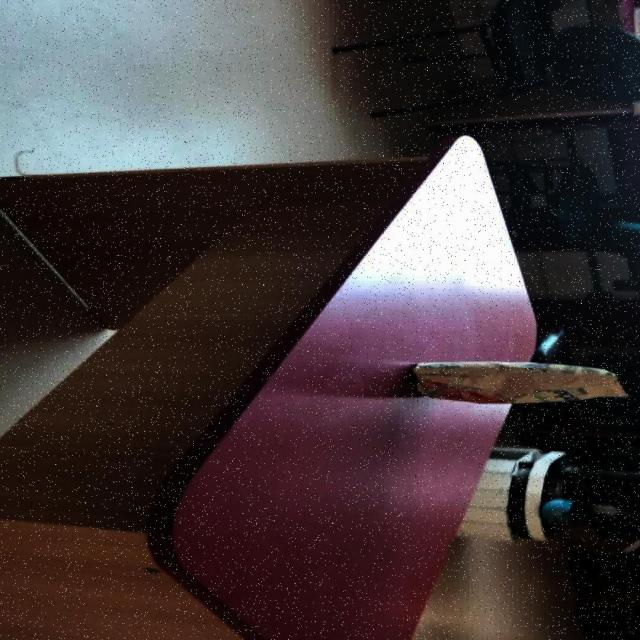CornFlakes: (410, 360, 629, 405)
